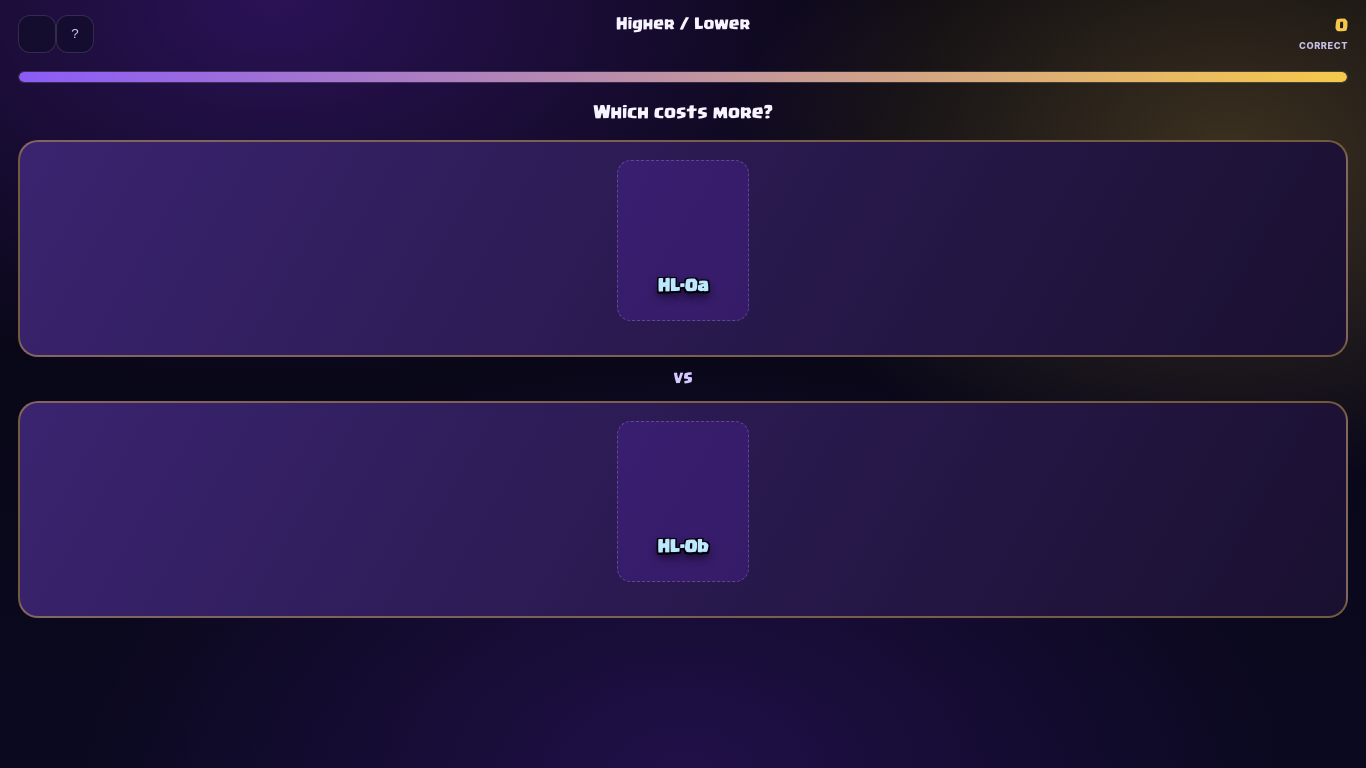
Test: Higher / Lower — gameplay › a late right pick reads as time running out, not a wrong card
The width and height of the screenshot is (1366, 768).
Click the button "HL-0a": coordinates (98, 249) [18, 140, 1348, 357]
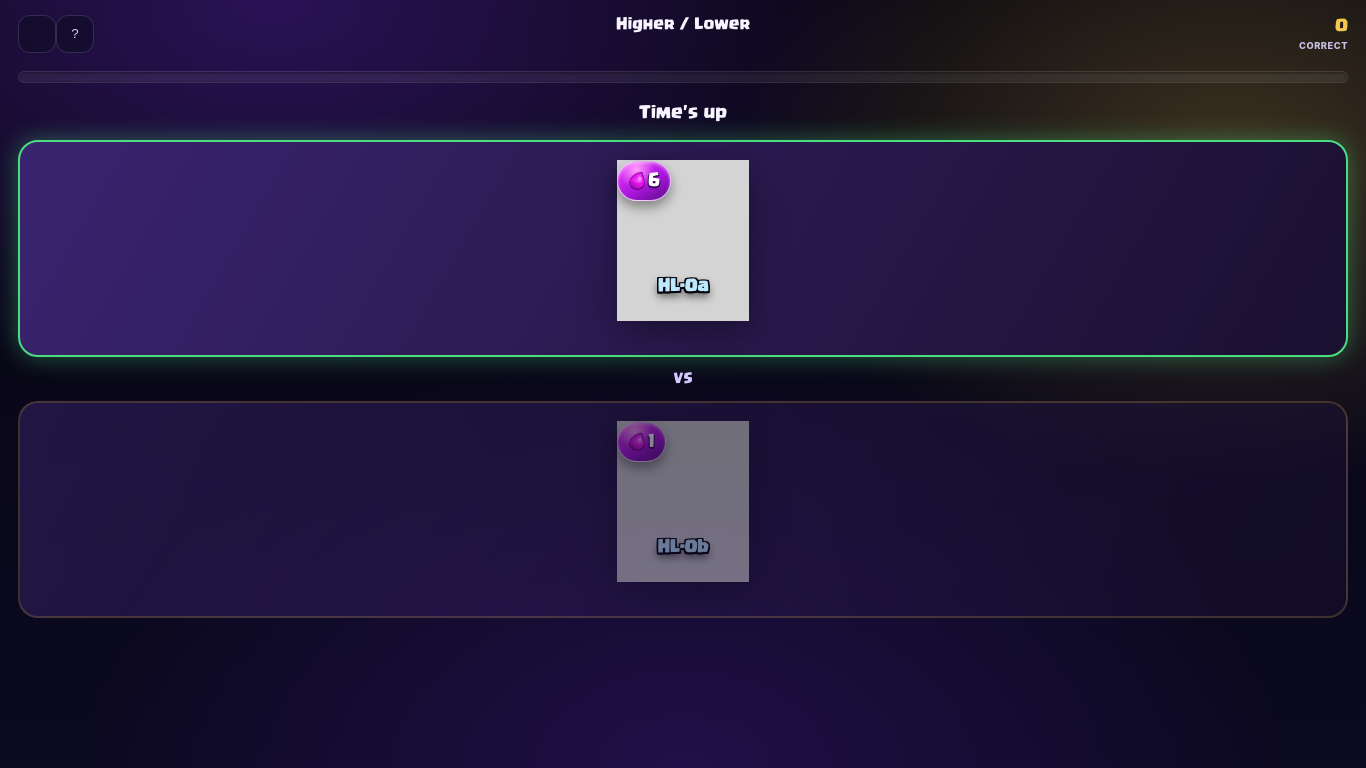
Expected: the text with test id "higher-lower-prompt" reads "Time's up", [639, 105, 727, 121]
